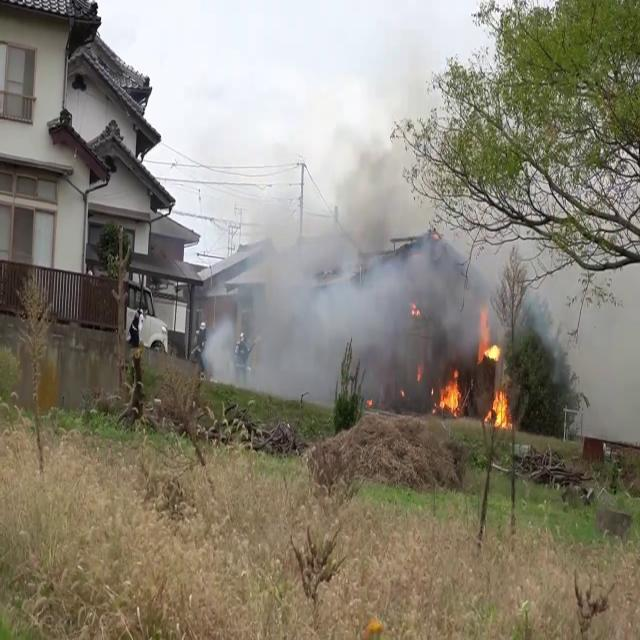Fire: (478, 336, 512, 434), (434, 363, 466, 417)
Smoke: (212, 86, 472, 406)
